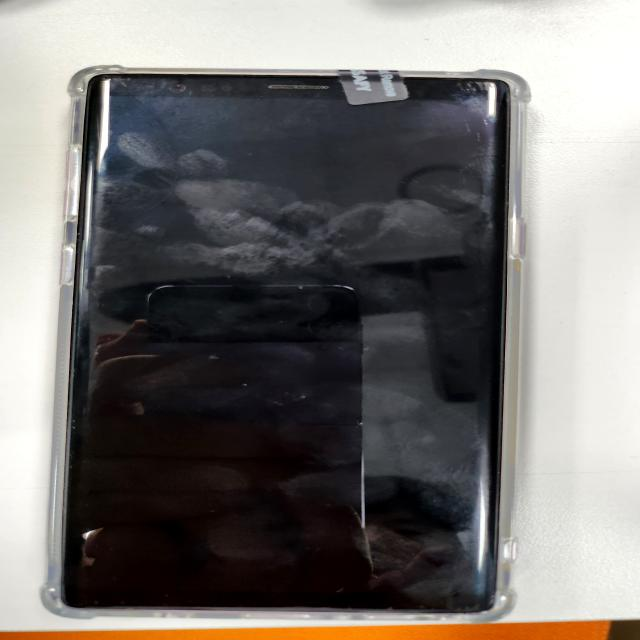phone: (50, 61, 523, 620)
sticker: (339, 66, 409, 105)
